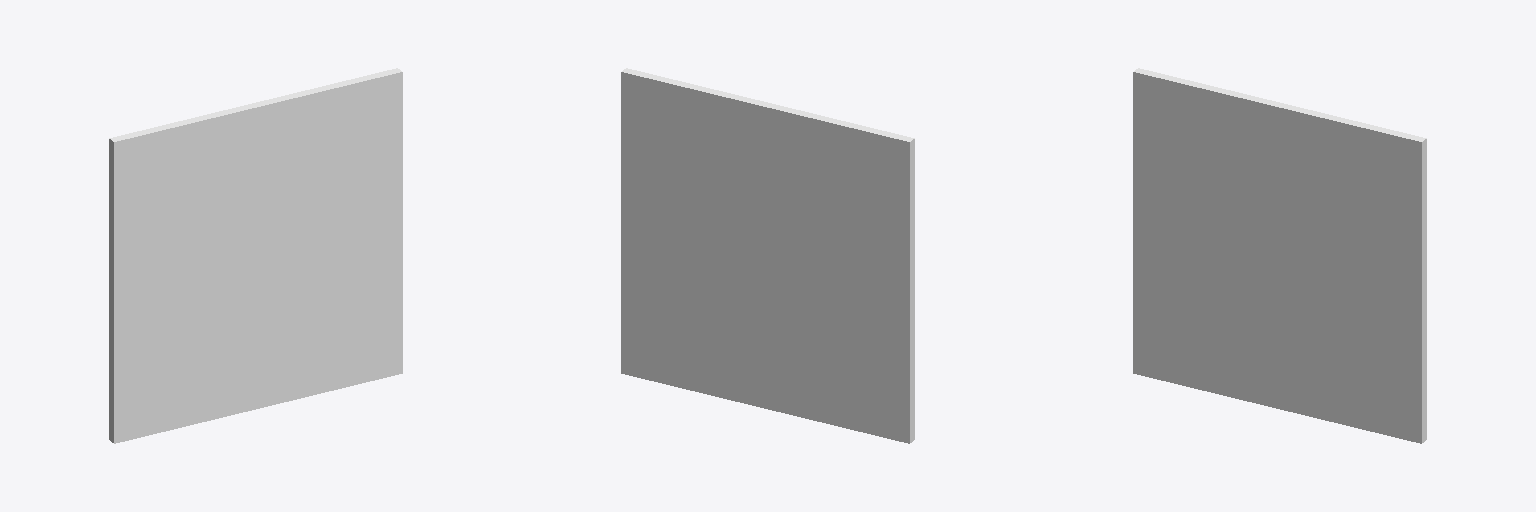
Rendered from floor_old.obj.
3 views of the same model, side by side, from view 1: azimuth 30°, elevation 25°; view 2: azimuth 150°, elevation 25°; view 3: azimuth 330°, elevation 25° (orthographic).
Visible parts, largest first — view 1: Object.1; view 2: Object.1; view 3: Object.1.
Part boxes in pixels (x1,y1,x2,y2): Object.1: (109,68,402,443); Object.1: (621,68,914,443); Object.1: (1133,68,1426,443).
Size of the model in its own units: 40 by 40 by 1.25.